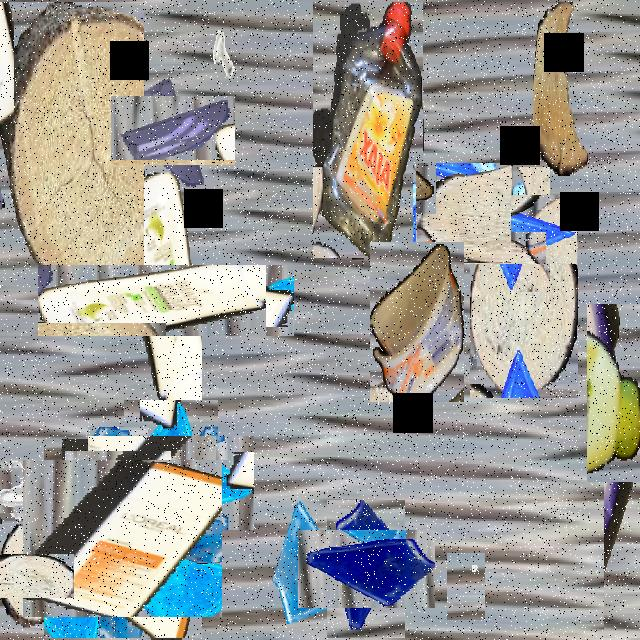glass: (106, 418, 236, 549), (312, 515, 420, 623), (272, 496, 352, 638), (0, 2, 63, 165), (466, 181, 564, 278), (125, 81, 222, 179), (76, 438, 160, 522)
metal: (32, 177, 112, 257), (0, 454, 59, 526), (205, 21, 243, 89), (447, 553, 485, 620)
plastic: (34, 449, 212, 628), (313, 2, 423, 258), (84, 218, 248, 382), (370, 242, 464, 402), (587, 304, 640, 482), (604, 386, 640, 638)
wood: (0, 2, 144, 300), (470, 242, 578, 398), (533, 2, 593, 176), (414, 165, 512, 262), (0, 539, 59, 612)
